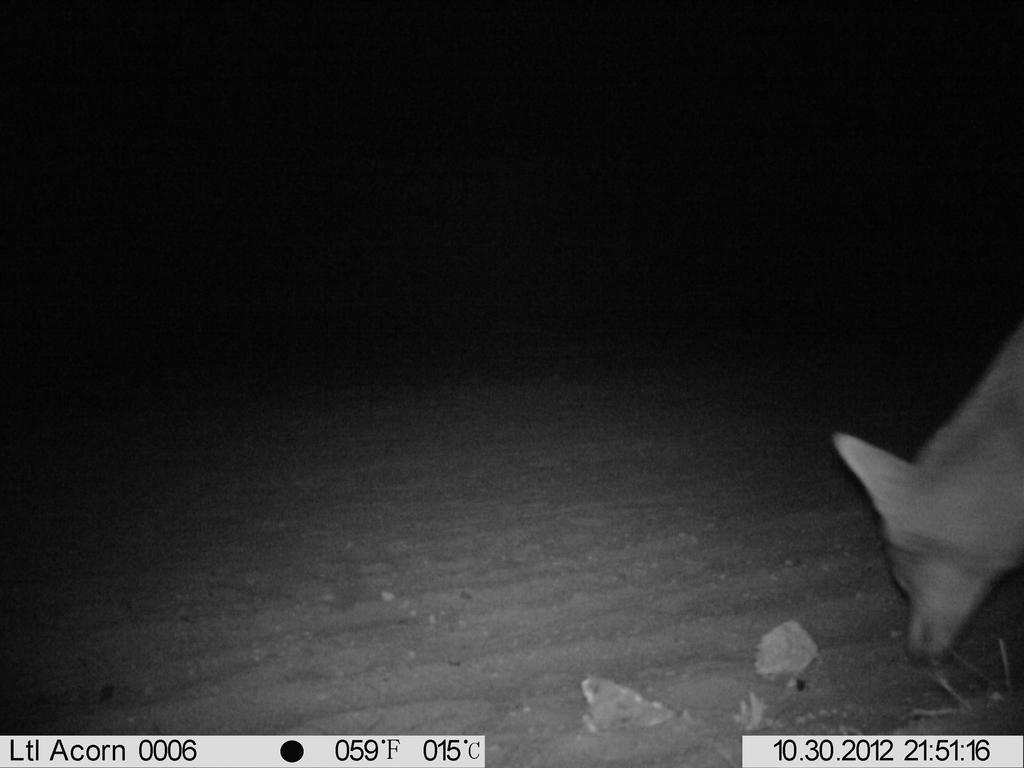coyote: (827, 304, 1023, 673)
